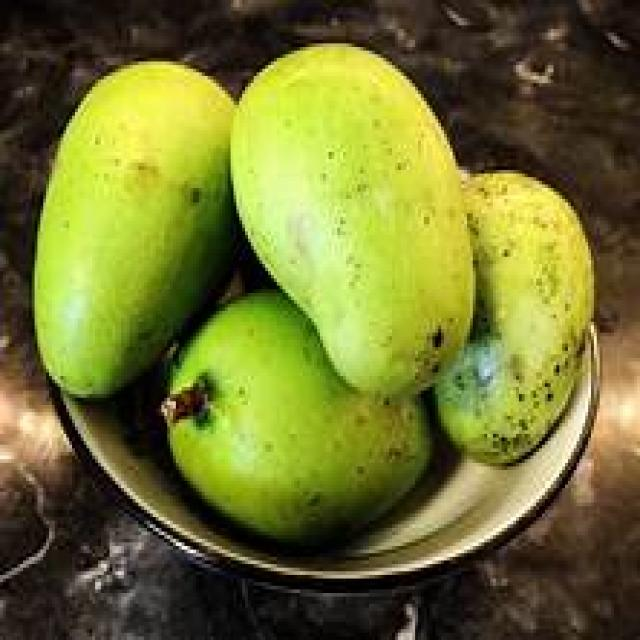Mango: (231, 38, 476, 332), (26, 45, 217, 348), (162, 285, 324, 534)
